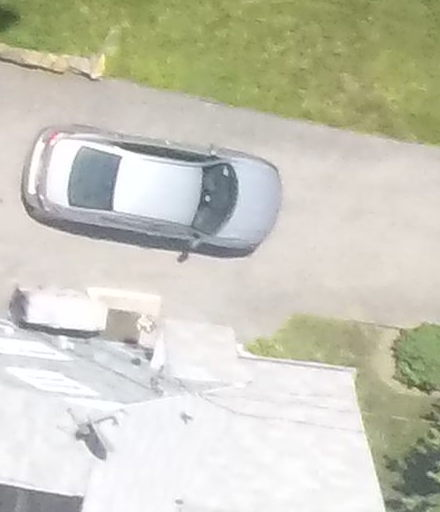car: (32, 109, 302, 263)
